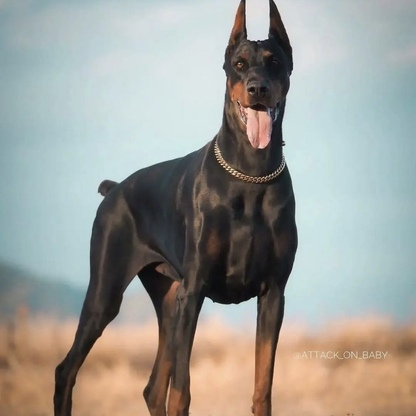doberman: (51, 1, 304, 416)
